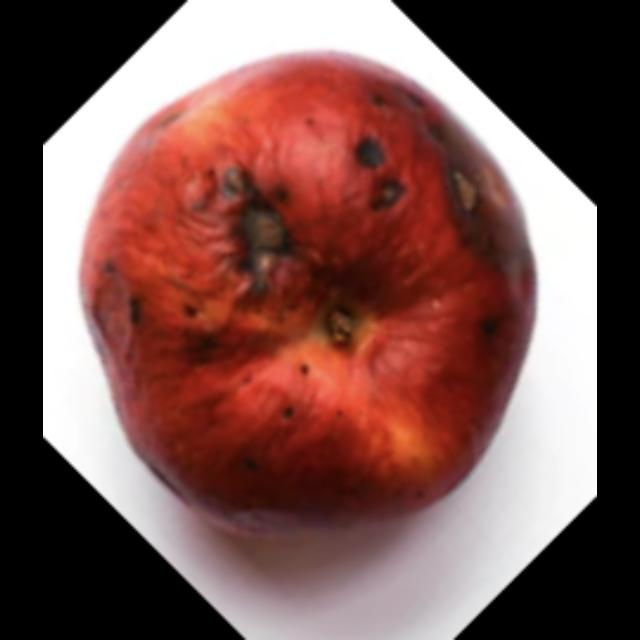Apel Tidak Segar: (64, 38, 570, 594)
